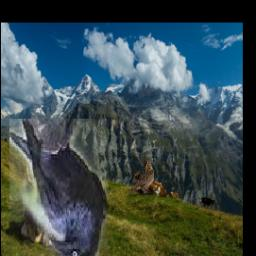Crow: (10, 120, 110, 256)
Sparrow: (128, 159, 155, 195)
